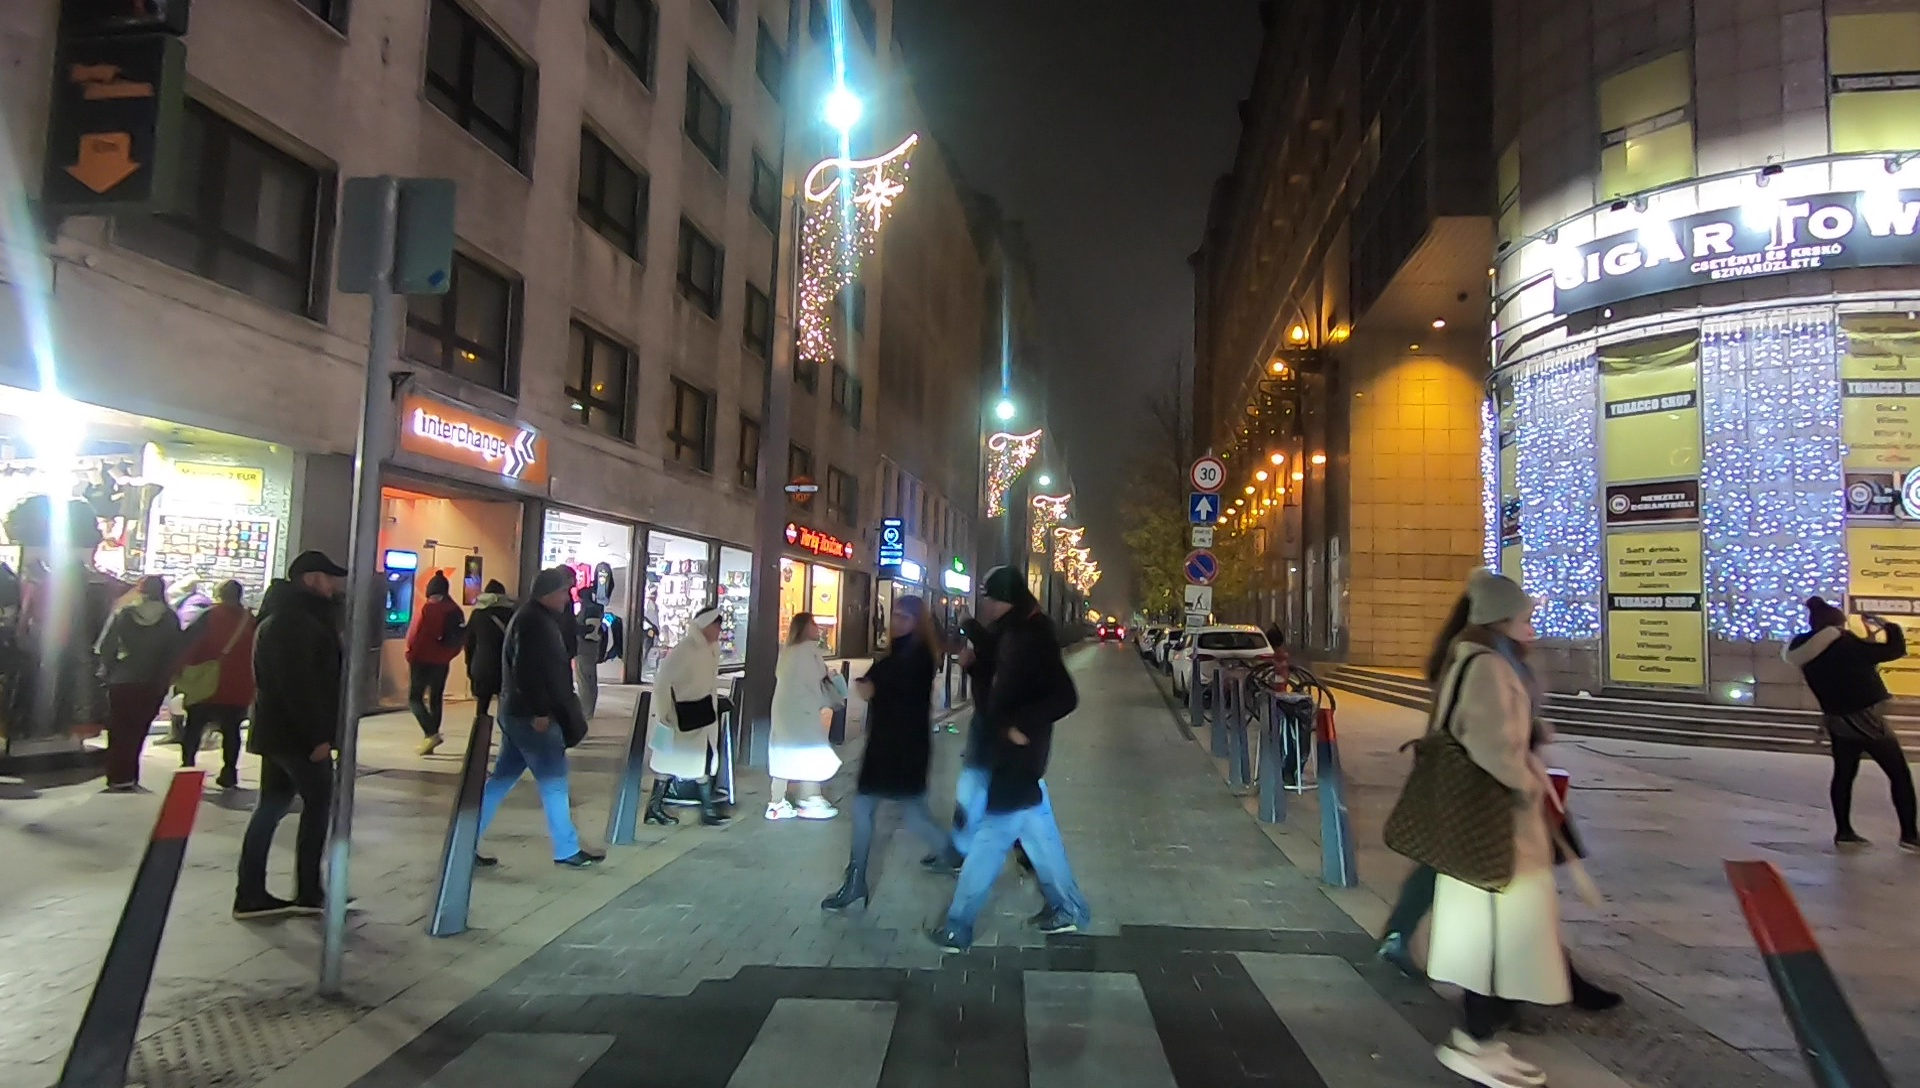person: (1406, 580, 1566, 1084), (938, 560, 1099, 947), (238, 552, 352, 908), (825, 593, 951, 908), (475, 571, 599, 867), (1786, 587, 1920, 849), (643, 602, 730, 824), (101, 574, 182, 795), (176, 574, 245, 800), (762, 606, 834, 819), (414, 571, 458, 749), (467, 578, 514, 734)
